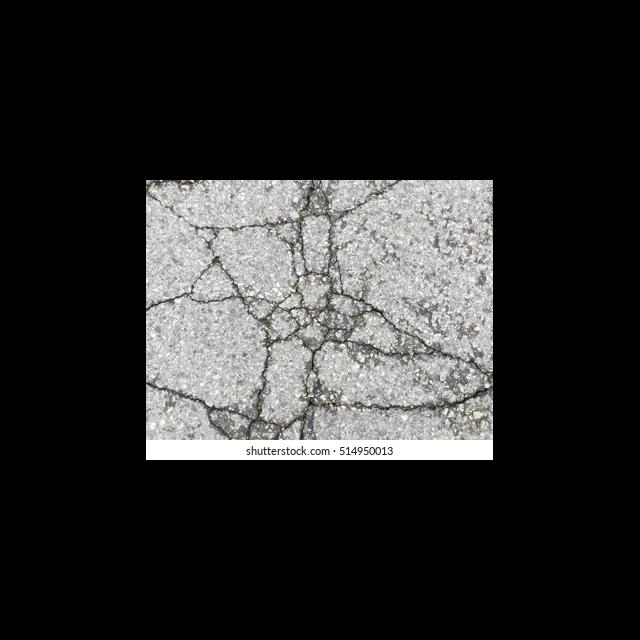retak_kulit_buaya: (146, 180, 494, 434)
